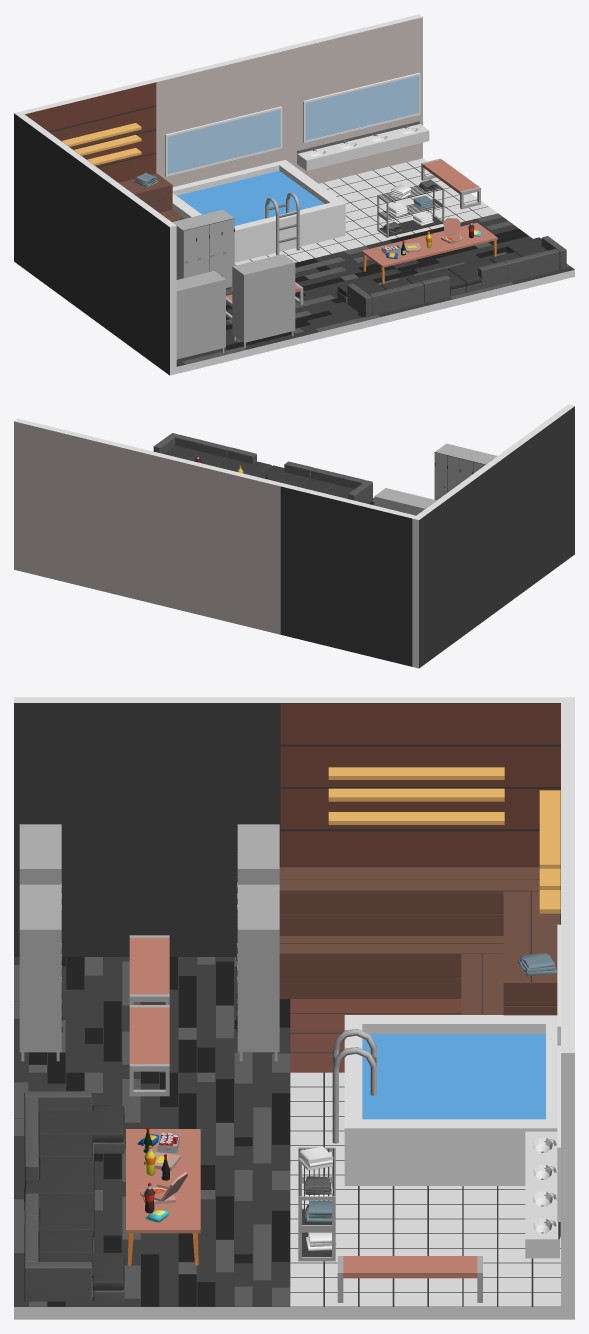
The model's file is room_8.glb.
3 renders of one model, top to bottom at view 1: azimuth 30°, elevation 25°; view 2: azimuth 150°, elevation 25°; view 3: azimuth 270°, elevation 25°, orthographic. The views are drawn at different scales.
Visible parts, largest first — view 1: Walls_011.010, Walls_166.001, wall_006.003, floor_014.009, floor_007.002, Walls_011.008, picture_054.005, picture_054.006, closet_009.004, Walls_070.001, closet_009.003, closet_009.002 (+17 smaller); view 2: Walls_166.001, Walls_011.010, Walls_011.009, sofa_037.001, sofa_037.002, closet_009.004, closet_009.002; view 3: Walls_011.010, wall_006.002, floor_014.009, floor_007.001, floor_007.002, floor_007.003, Walls_011.008, Walls_070.001, sofa_037.002, sofa_037.001, closet_009.002, closet_009.004 (+35 smaller).
Boxes of the visible parts, <box> form: Walls_011.010: <box>14,111,176,375</box>; Walls_166.001: <box>153,14,422,186</box>; wall_006.003: <box>25,82,156,182</box>; floor_014.009: <box>319,158,497,245</box>; floor_007.002: <box>295,246,441,334</box>; Walls_011.008: <box>176,162,574,373</box>; picture_054.005: <box>165,106,282,176</box>; picture_054.006: <box>303,72,420,142</box>; closet_009.004: <box>232,254,295,347</box>; Walls_070.001: <box>177,170,324,225</box>; closet_009.003: <box>176,271,225,359</box>; closet_009.002: <box>172,209,234,291</box>; Walls_166.001: <box>14,418,284,634</box>; Walls_011.010: <box>412,404,574,668</box>; Walls_011.009: <box>280,483,415,666</box>; sofa_037.001: <box>258,461,372,503</box>; sofa_037.002: <box>153,433,271,476</box>; closet_009.004: <box>434,443,497,500</box>; closet_009.002: <box>374,488,436,515</box>; Walls_011.010: <box>14,697,574,957</box>; wall_006.002: <box>280,703,560,924</box>; floor_014.009: <box>290,1190,560,1306</box>; floor_007.001: <box>14,1190,290,1306</box>; floor_007.002: <box>14,1072,290,1189</box>; floor_007.003: <box>14,957,290,1072</box>; Walls_011.008: <box>14,957,560,1319</box>; Walls_070.001: <box>362,1034,545,1119</box>; sofa_037.002: <box>24,1193,124,1302</box>; sofa_037.001: <box>24,1091,124,1197</box>; closet_009.002: <box>236,884,279,1061</box>; closet_009.004: <box>19,884,62,1061</box>.
Bounding box in the file's own units: 12 × 4.2 × 8.
Materials: 1 (1 with a texture image).
